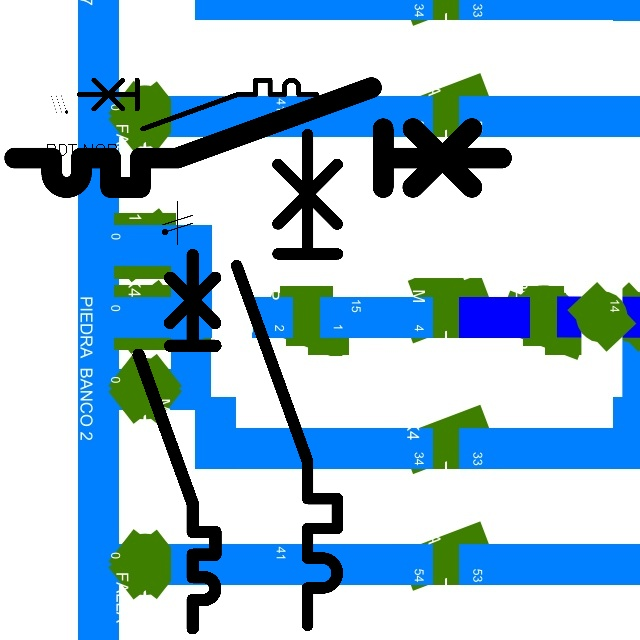interruptor_termomagnetico: (224, 122, 350, 638), (2, 75, 514, 200), (129, 245, 225, 637), (73, 74, 323, 135)
